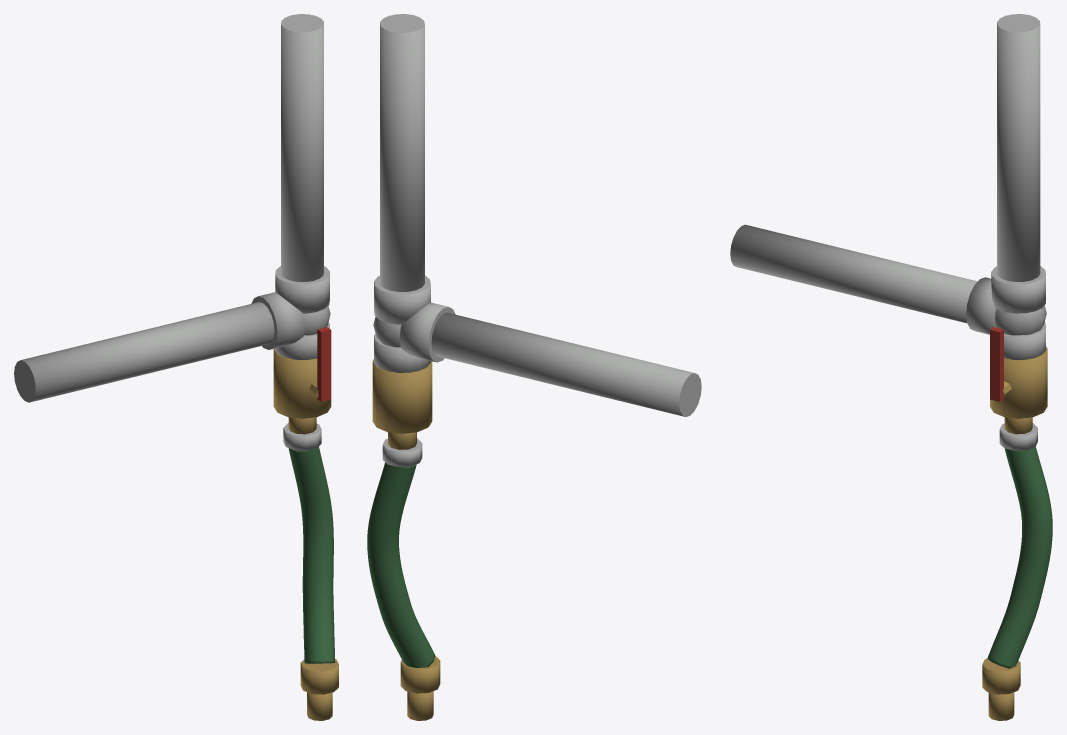
Rendered from barrel_pump_front3.obj.
3 renders of one model, left to right at view 1: azimuth 30°, elevation 25°; view 2: azimuth 150°, elevation 25°; view 3: azimuth 330°, elevation 25°, orthographic. The views are drawn at different scales.
Visible parts, largest first — view 1: pipe8, pipe4, hose, valve_body, elbow_socket8, elbow_socket4, spigot_nut, valve_lever, elbow_socket1, hose_collar, spigot, elbow_hub; view 2: pipe8, pipe4, hose, valve_body, elbow_socket8, elbow_socket4, elbow_socket1, spigot_nut, hose_collar, spigot, elbow_hub; view 3: pipe4, pipe8, hose, valve_body, elbow_socket4, elbow_socket8, spigot_nut, elbow_hub, elbow_socket1, valve_lever, hose_collar, spigot.
Part boxes in pixels (x1,y1,x2,y2): pipe8: [14, 302, 274, 402]; pipe4: [281, 14, 323, 281]; hose: [288, 447, 335, 663]; valve_body: [273, 348, 331, 418]; elbow_socket8: [251, 292, 305, 349]; elbow_socket4: [275, 266, 329, 313]; spigot_nut: [300, 659, 338, 694]; valve_lever: [317, 327, 331, 401]; elbow_socket1: [275, 322, 329, 359]; hose_collar: [283, 423, 321, 450]; spigot: [307, 692, 332, 720]; elbow_hub: [303, 306, 330, 335]; pipe8: [431, 312, 701, 416]; pipe4: [380, 14, 424, 291]; hose: [367, 462, 434, 667]; valve_body: [372, 359, 432, 433]; elbow_socket8: [399, 302, 455, 362]; elbow_socket4: [374, 275, 430, 324]; elbow_socket1: [374, 334, 430, 372]; spigot_nut: [400, 655, 440, 693]; hose_collar: [382, 438, 422, 466]; spigot: [407, 691, 433, 720]; elbow_hub: [373, 317, 401, 347]; pipe4: [997, 14, 1040, 281]; pipe8: [730, 224, 977, 323]; hose: [987, 447, 1052, 668]; valve_body: [990, 346, 1047, 418]; elbow_socket4: [991, 266, 1045, 313]; elbow_socket8: [966, 277, 996, 334]; spigot_nut: [982, 658, 1020, 694]; elbow_hub: [995, 305, 1046, 335]; elbow_socket1: [1004, 322, 1045, 359]; valve_lever: [990, 327, 1003, 401]; hose_collar: [999, 423, 1037, 450]; spigot: [988, 692, 1014, 720].
Bounding box in the file's own units: 0.5548 × 1.17 × 0.1275.
4 materials, 4 textured.
